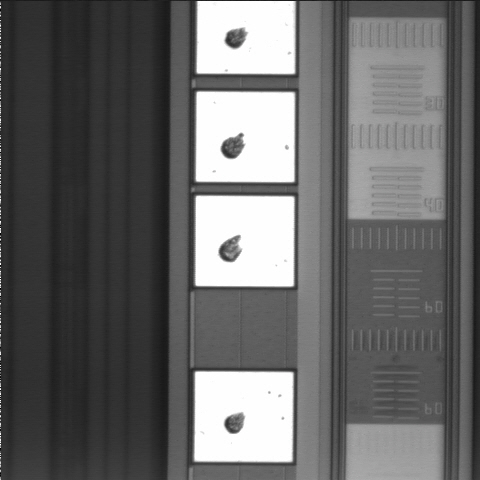pad: (196, 92, 295, 182), (195, 196, 294, 286), (194, 372, 293, 462)
